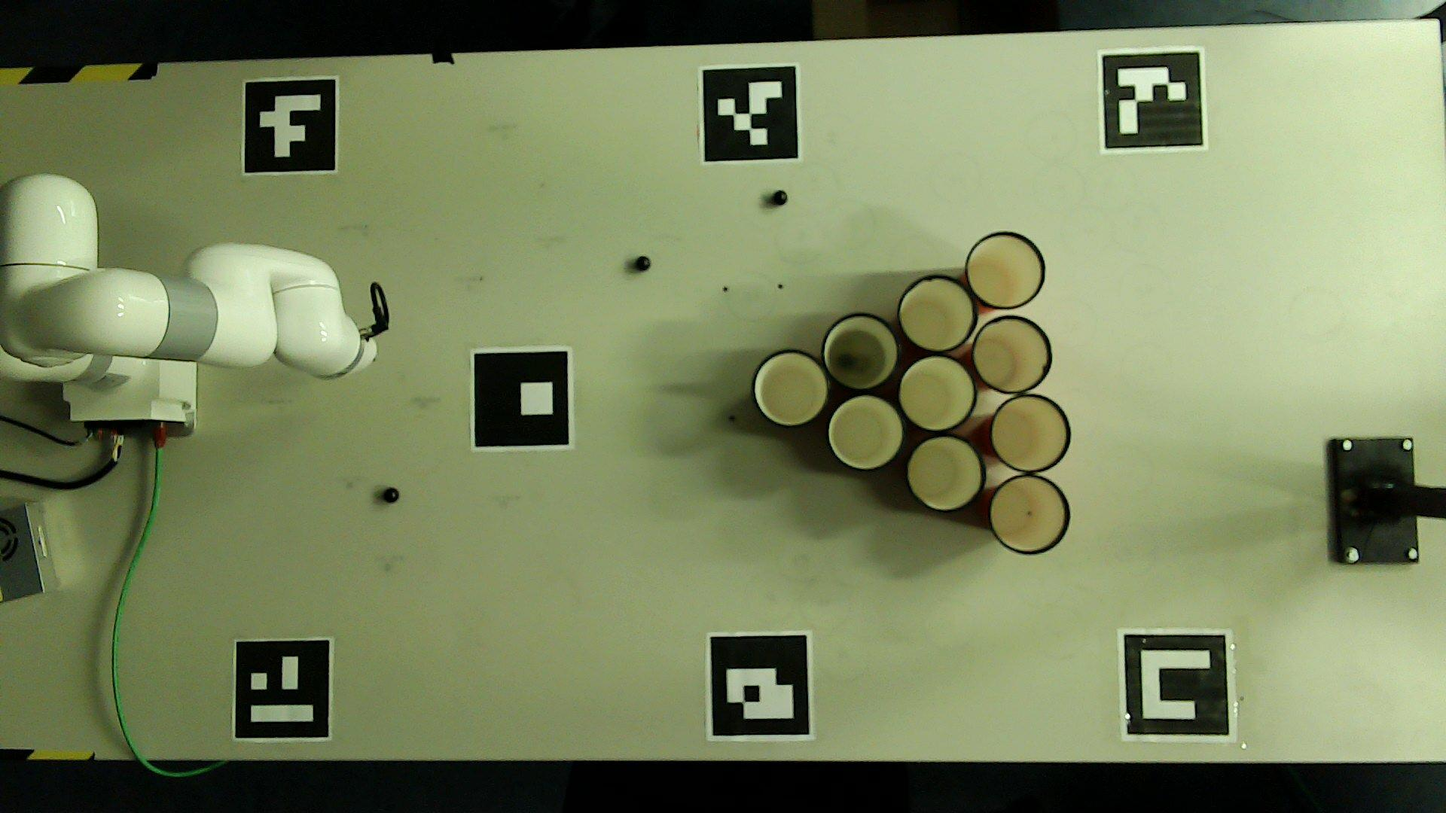ball: (772, 191, 787, 204), (636, 257, 650, 270), (385, 489, 398, 501)
cup: (985, 474, 1069, 553), (964, 232, 1044, 309), (898, 276, 977, 352), (975, 315, 1052, 392), (898, 355, 976, 431), (992, 395, 1069, 471), (753, 350, 829, 426), (822, 314, 898, 390), (907, 436, 984, 511), (828, 395, 904, 470)
